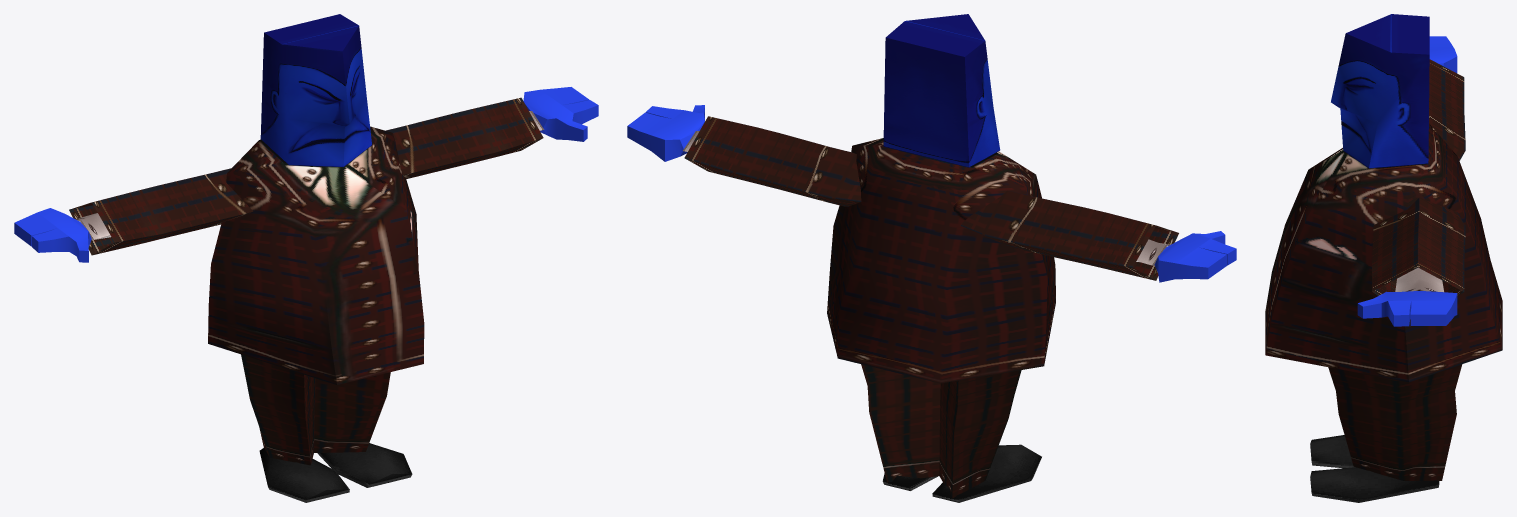
File: coldcaller.glb
The picture shows the model from 3 angles, left to right: view 1: azimuth 30°, elevation 25°; view 2: azimuth 150°, elevation 25°; view 3: azimuth 270°, elevation 25°; orthographic projection. The views are drawn at different scales.
Parts seen in each view (by area): view 1: cogC_cashbot, cog_head_coldcaller; view 2: cogC_cashbot, cog_head_coldcaller; view 3: cogC_cashbot, cog_head_coldcaller.
Part boxes in pixels (<box>): cogC_cashbot: <box>14,87,598,502</box>; cog_head_coldcaller: <box>260,14,371,167</box>; cogC_cashbot: <box>627,105,1236,502</box>; cog_head_coldcaller: <box>883,14,1000,167</box>; cogC_cashbot: <box>1265,36,1502,502</box>; cog_head_coldcaller: <box>1331,14,1429,168</box>.
Size of the model in its own units: 9.23 by 6.72 by 3.31.
Materials: 8 (6 with a texture image).
